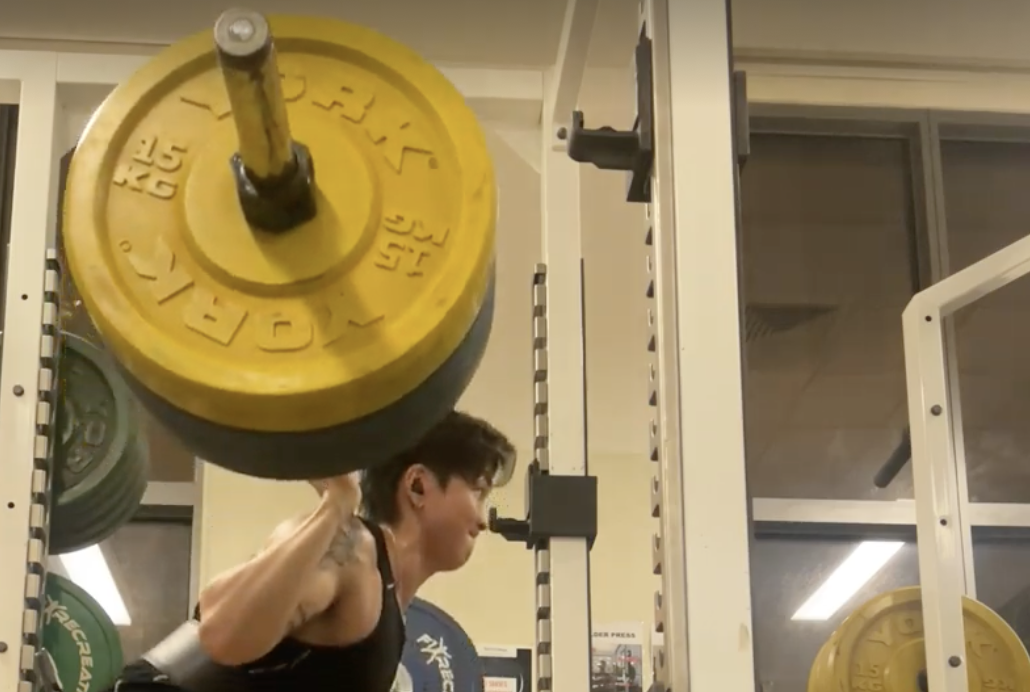barbell: (219, 7, 265, 44)
